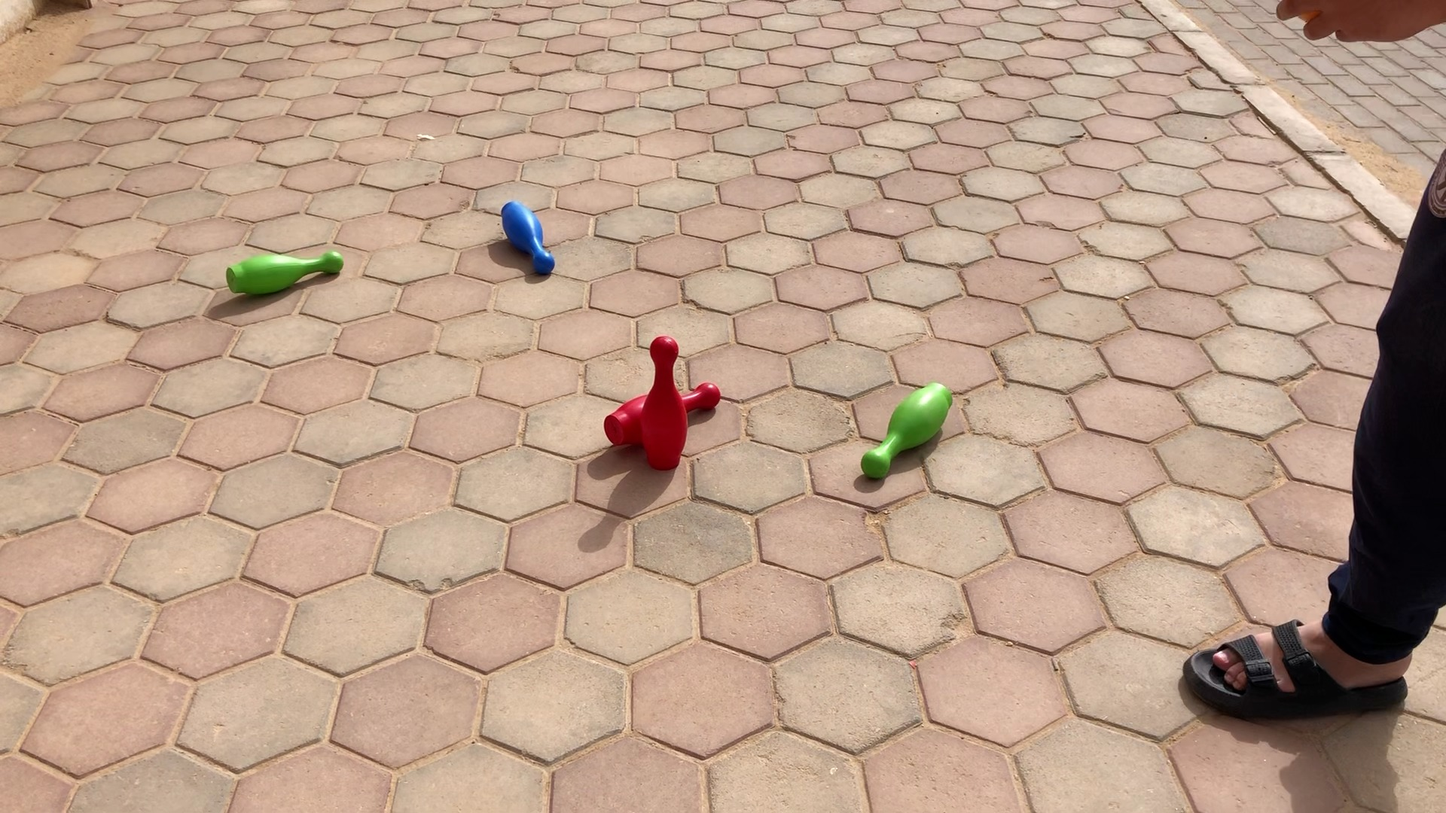pin: (610, 336, 692, 469), (861, 384, 948, 480), (224, 248, 342, 297), (502, 201, 557, 276)
